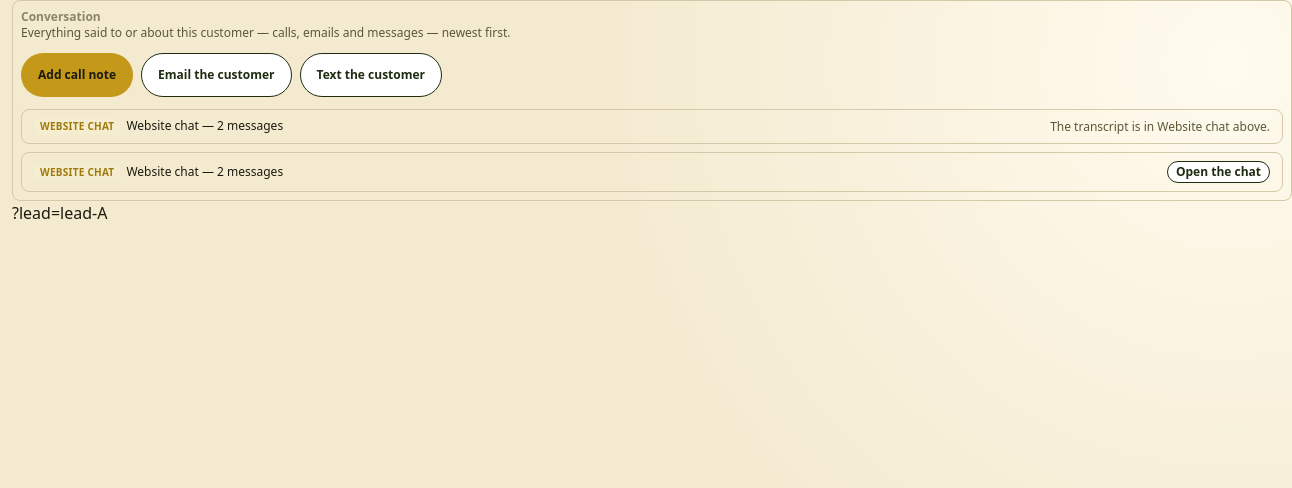
Test: the lead drawer's website chat lines › says 'above' only for this lead's own chat; a sibling lead's chat gets 'Open the chat'
Expected: the 1st list item is shown, [21, 109, 1283, 144]
Expected: the list item "Website chat Website chat — 2 messages Open the chat" does not show "above", [21, 152, 1283, 192]
Click the button "Open the chat" at (1218, 172), box [1167, 161, 1270, 183]
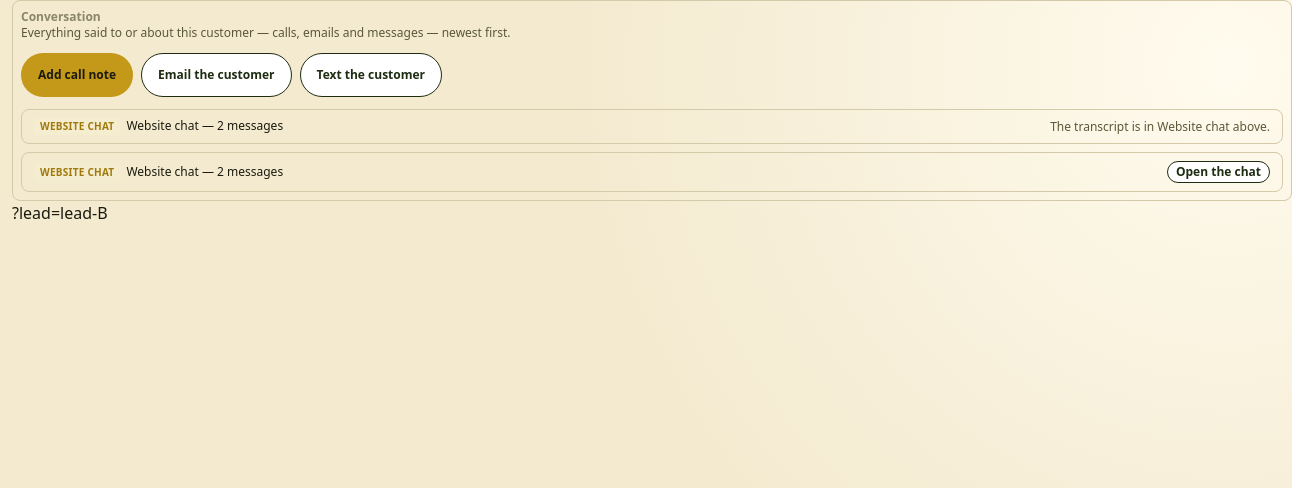
Now the text with test id "location" shows "lead=lead-B", box [12, 202, 108, 224]
